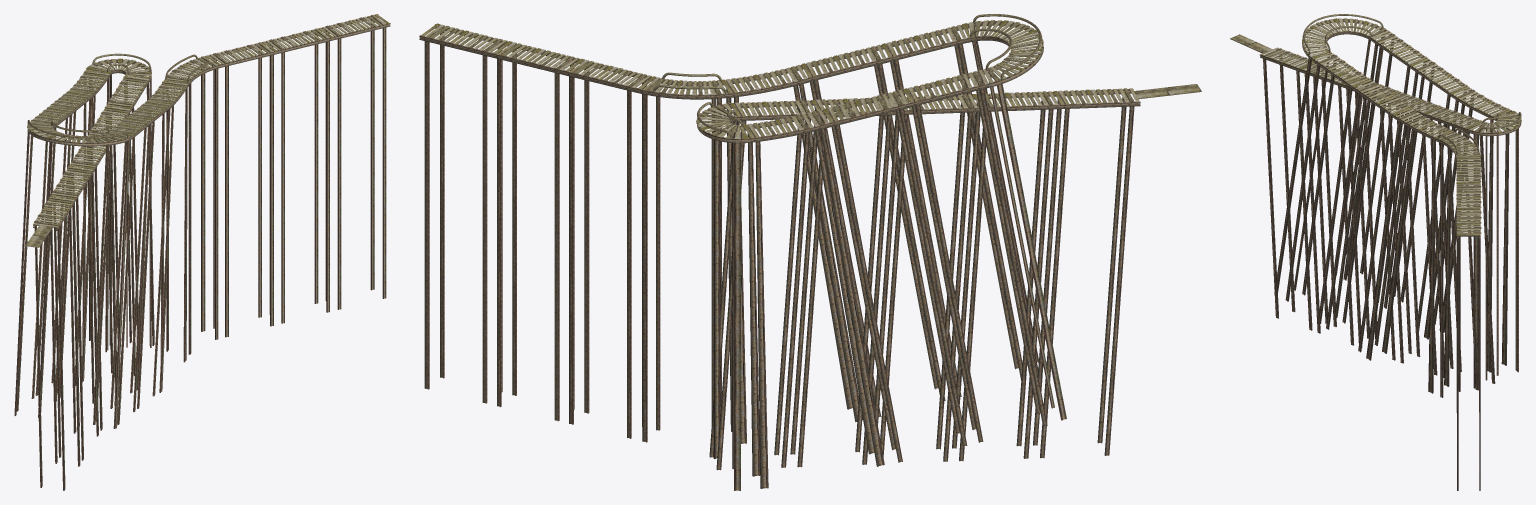
3 views of the same model, side by side, from view 1: azimuth 30°, elevation 25°; view 2: azimuth 150°, elevation 25°; view 3: azimuth 270°, elevation 25° (orthographic). The views are drawn at different scales.
Visible parts, largest first — view 1: Ramp_001__46_, GameObject__27_, Ramp_001__47_, Ramp_001__48_, GameObject__28_, Ramp_001__57_, Ramp_001__51_, Ramp_001__56_, GameObject__25_, Ramp_001__50_, Ramp_001__53_, Ramp_001__55_ (+6 smaller); view 2: GameObject__25___1_, Ramp_001__57_, Ramp_001__46_, Ramp_001__53_, Ramp_001__52_, GameObject__28_, Ramp_001__49_, Ramp_001__47_, Ramp_001__48_, Ramp_001__56_, Ramp_001__55_, Ramp_001__54_ (+5 smaller); view 3: GameObject__25_, Ramp_001__50_, Ramp_001__51_, GameObject__28_, Ramp_001__57_, GameObject__25___1_, GameObject__35_, Ramp_001__49_, Ramp_001__56_, Ramp_001__54_, Ramp_001__55_, Ramp_001__52_ (+7 smaller).
Part boxes in pixels (x1=…): Ramp_001__46_: x1=322, y1=14, x2=390, y2=309; GameObject__27_: x1=164, y1=55, x2=221, y2=354; Ramp_001__47_: x1=265, y1=27, x2=334, y2=323; Ramp_001__48_: x1=209, y1=41, x2=277, y2=337; GameObject__28_: x1=14, y1=122, x2=133, y2=428; Ramp_001__57_: x1=33, y1=195, x2=80, y2=490; Ramp_001__51_: x1=95, y1=116, x2=152, y2=424; Ramp_001__56_: x1=52, y1=164, x2=98, y2=460; GameObject__25_: x1=136, y1=80, x2=188, y2=392; Ramp_001__50_: x1=114, y1=100, x2=172, y2=408; Ramp_001__53_: x1=17, y1=106, x2=73, y2=411; Ramp_001__55_: x1=70, y1=134, x2=116, y2=430; GameObject__25___1_: x1=743, y1=109, x2=884, y2=488; Ramp_001__57_: x1=1033, y1=88, x2=1140, y2=458; Ramp_001__46_: x1=419, y1=23, x2=507, y2=403; Ramp_001__53_: x1=902, y1=69, x2=1047, y2=442; Ramp_001__52_: x1=822, y1=89, x2=967, y2=462; GameObject__28_: x1=961, y1=20, x2=1066, y2=420; Ramp_001__49_: x1=709, y1=100, x2=814, y2=470; Ramp_001__47_: x1=491, y1=41, x2=579, y2=421; Ramp_001__48_: x1=564, y1=58, x2=651, y2=438; Ramp_001__56_: x1=952, y1=91, x2=1059, y2=461; Ramp_001__55_: x1=874, y1=94, x2=978, y2=461; Ramp_001__54_: x1=790, y1=98, x2=896, y2=467; GameObject__25_: x1=1366, y1=109, x2=1454, y2=393; Ramp_001__50_: x1=1326, y1=81, x2=1411, y2=352; Ramp_001__51_: x1=1285, y1=53, x2=1371, y2=323; GameObject__28_: x1=1274, y1=18, x2=1389, y2=295; Ramp_001__57_: x1=1259, y1=47, x2=1327, y2=330; GameObject__25___1_: x1=1424, y1=88, x2=1511, y2=372; GameObject__35_: x1=1468, y1=110, x2=1521, y2=388; Ramp_001__49_: x1=1426, y1=107, x2=1495, y2=390; Ramp_001__56_: x1=1301, y1=64, x2=1369, y2=345; Ramp_001__54_: x1=1384, y1=92, x2=1453, y2=375; Ramp_001__55_: x1=1343, y1=79, x2=1411, y2=360; Ramp_001__52_: x1=1384, y1=60, x2=1469, y2=330.
Size of the model in its own units: 4273 by 2822 by 2394.
